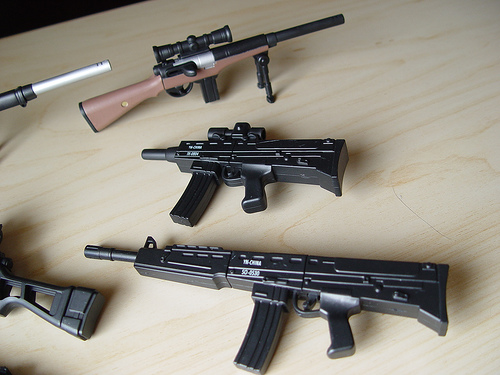rifle: (86, 239, 466, 356), (80, 17, 339, 123), (139, 124, 370, 222)
